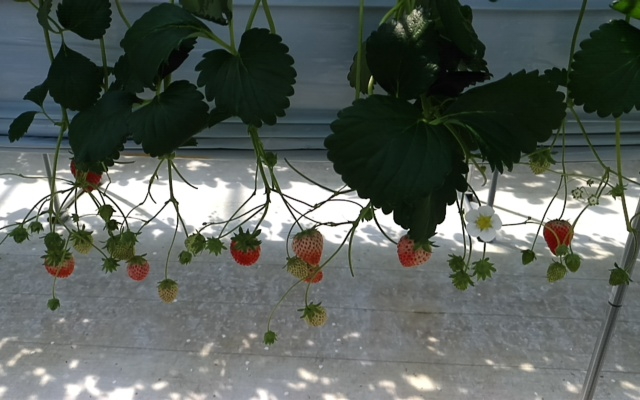GreenStrawberry: (289, 227, 325, 266), (104, 234, 138, 263), (528, 149, 553, 175), (72, 228, 94, 257), (302, 303, 326, 328), (285, 256, 309, 280), (545, 260, 567, 286), (157, 278, 178, 305), (184, 233, 205, 256), (609, 267, 630, 288), (563, 253, 581, 274), (453, 272, 469, 291), (522, 249, 535, 265)
MatureStrawberry: (69, 150, 105, 194), (396, 228, 432, 268), (542, 218, 574, 259), (230, 232, 263, 267), (45, 247, 76, 279), (126, 255, 150, 282)
